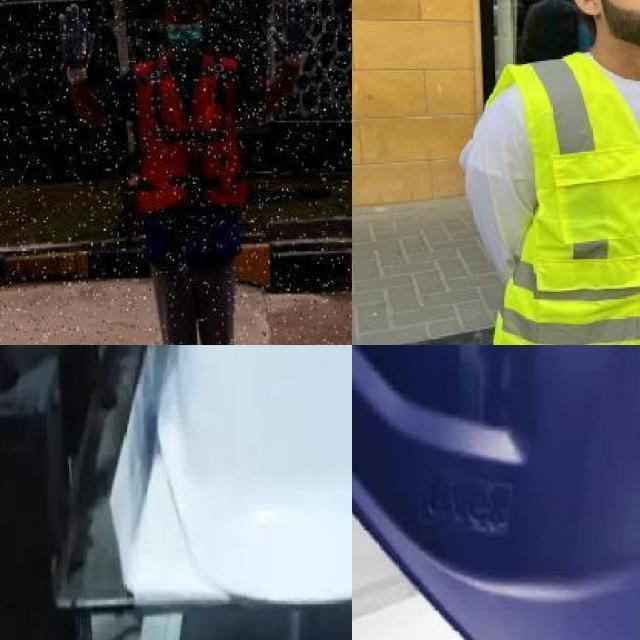apron: (58, 3, 97, 89), (268, 0, 306, 69)
